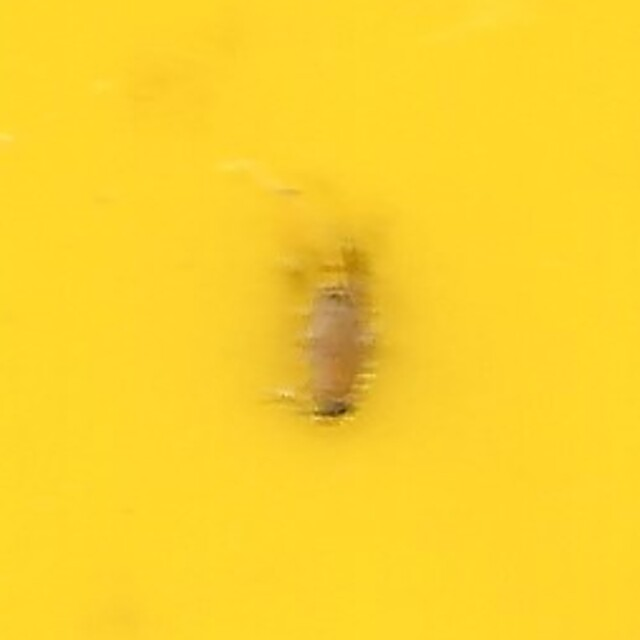Trichoptera: (252, 197, 388, 443)
